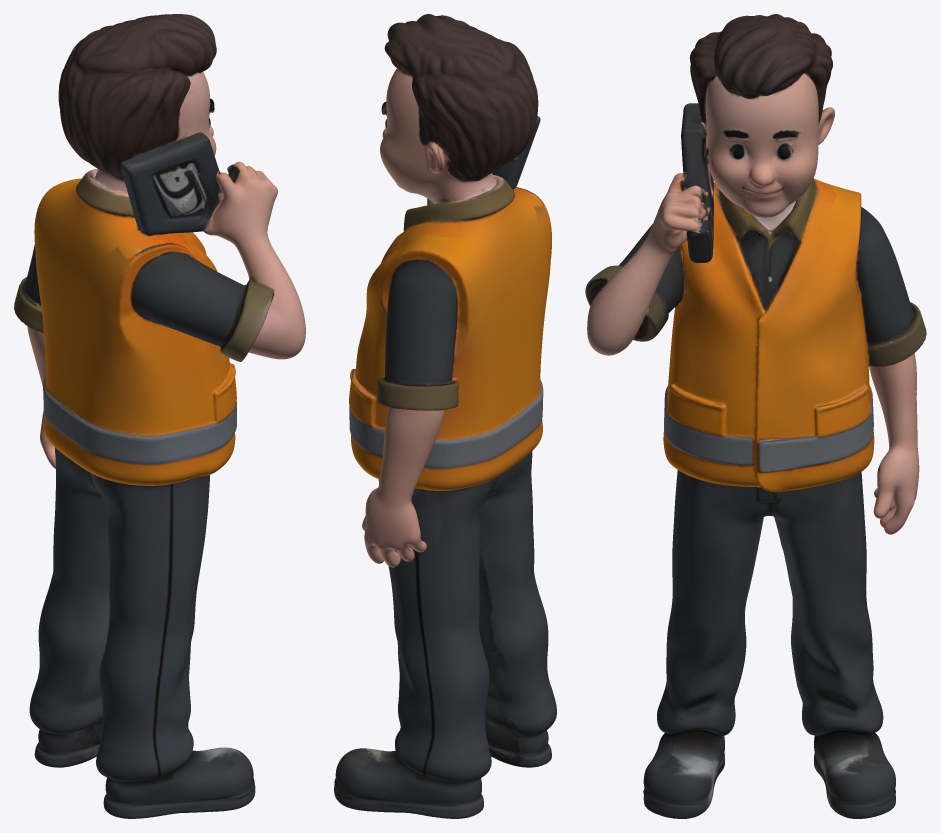
File: marshal-radio.glb
3 renders of one model, left to right at view 1: azimuth 30°, elevation 25°; view 2: azimuth 150°, elevation 25°; view 3: azimuth 270°, elevation 25°, orthographic. The views are drawn at different scales.
Parts seen in each view (by area): view 1: tripo_node_aa0caa11-7e9e-4116-be05-d5a23dda6efd; view 2: tripo_node_aa0caa11-7e9e-4116-be05-d5a23dda6efd; view 3: tripo_node_aa0caa11-7e9e-4116-be05-d5a23dda6efd.
Boxes of the visible parts, x1,y1,x2,y2 form: tripo_node_aa0caa11-7e9e-4116-be05-d5a23dda6efd: [14, 14, 305, 818]; tripo_node_aa0caa11-7e9e-4116-be05-d5a23dda6efd: [334, 14, 556, 818]; tripo_node_aa0caa11-7e9e-4116-be05-d5a23dda6efd: [585, 14, 926, 818].
Bounding box in the file's own units: 0.2358 × 1 × 0.4019.
Materials: 1 (1 with a texture image).
